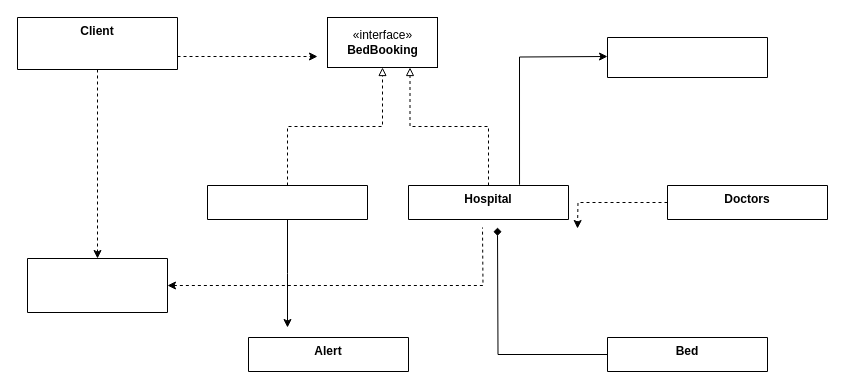
Image size: 845x389. Some labels were removed from this diagram. The shapes that lost their labels are listed below. From the top down, each one's box as (x1, y1, x2, y2) in pixels, then its label:
(606, 36, 768, 78): Admin
(206, 184, 368, 220): BedBooking
(26, 258, 168, 312): Location
